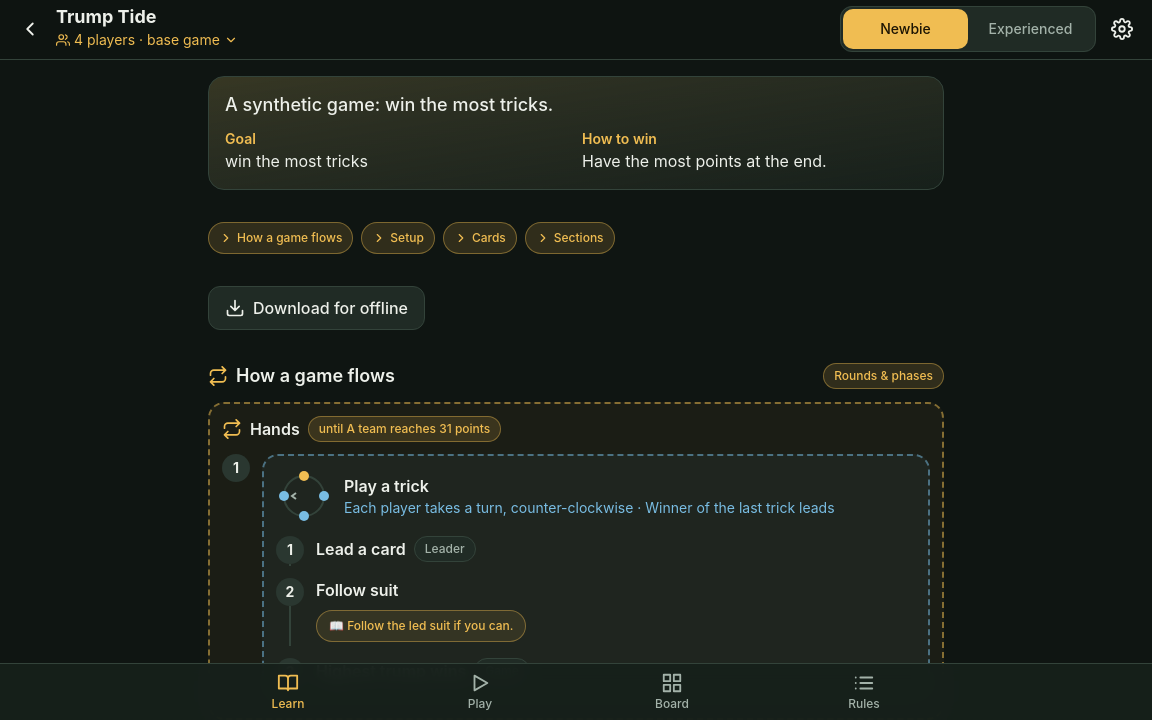
game screen › clamps the player count to the game's range
Click the button with test id "session-chip": click(147, 40) [56,30,238,50]
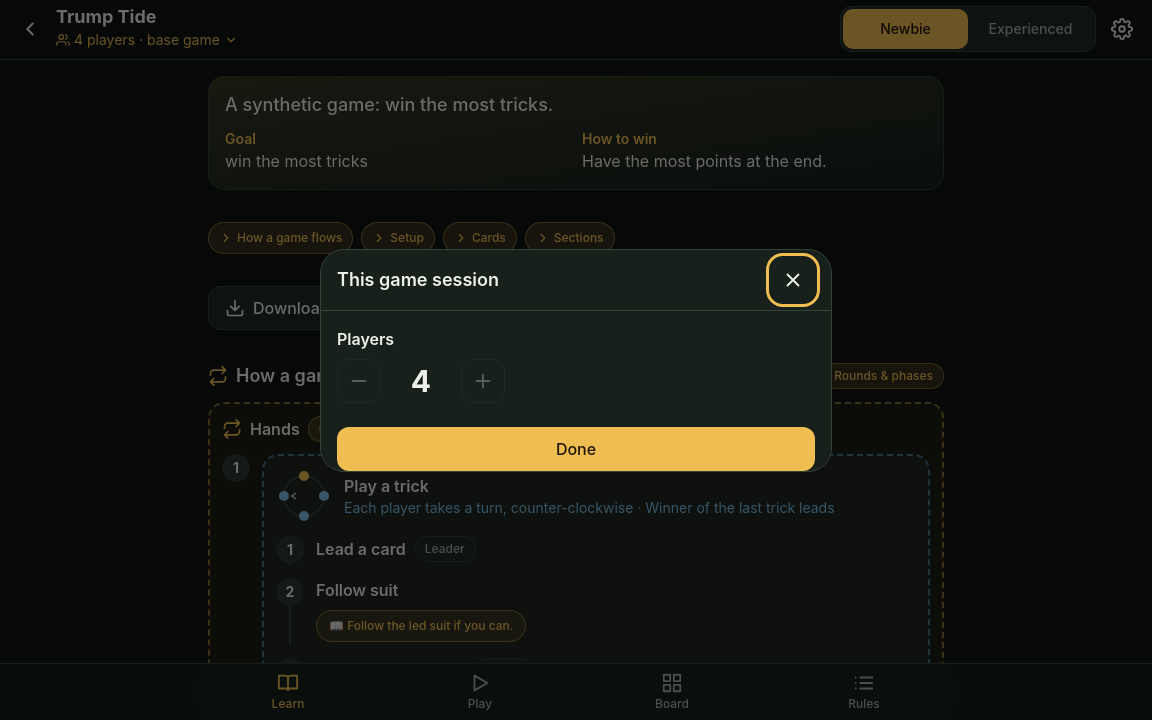
Check: the text with test id "player-count" reads "4", box [411,362,431,398]
Check: the button named "More players" is disabled, box [461,358,505,402]
Check: the button named "Fewer players" is disabled, box [337,358,381,402]
